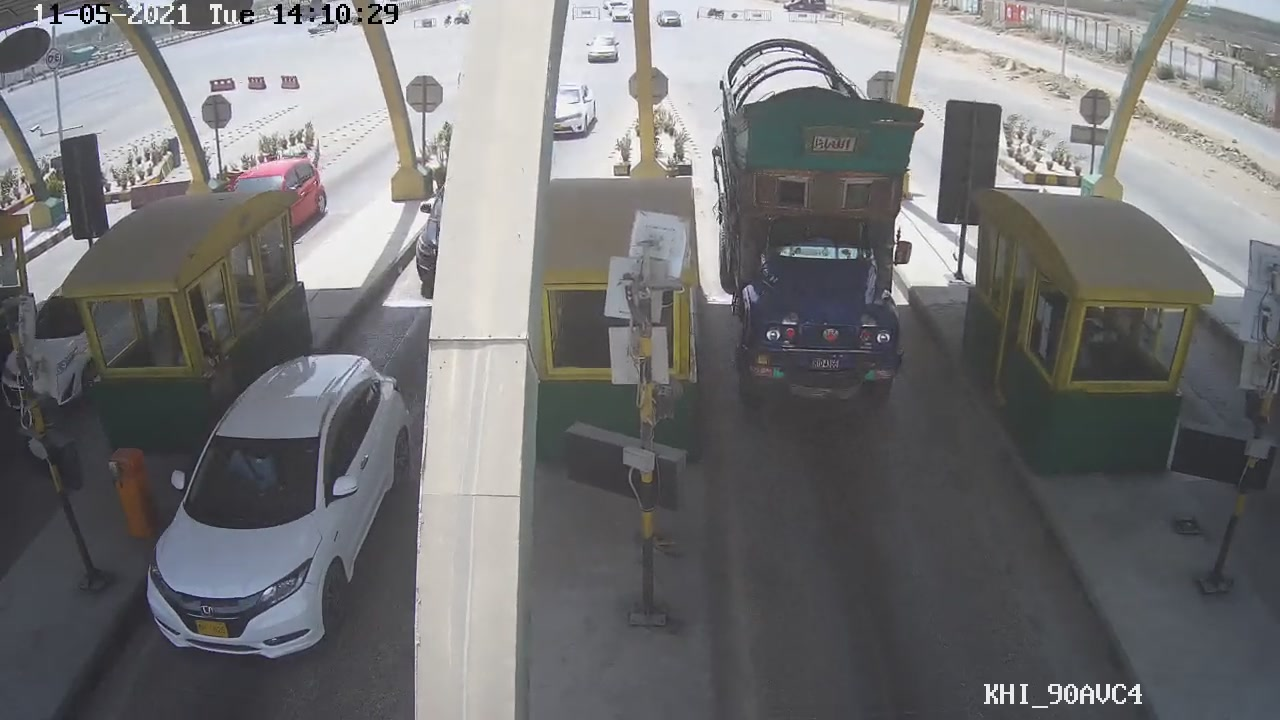F5: (707, 39, 942, 427)
